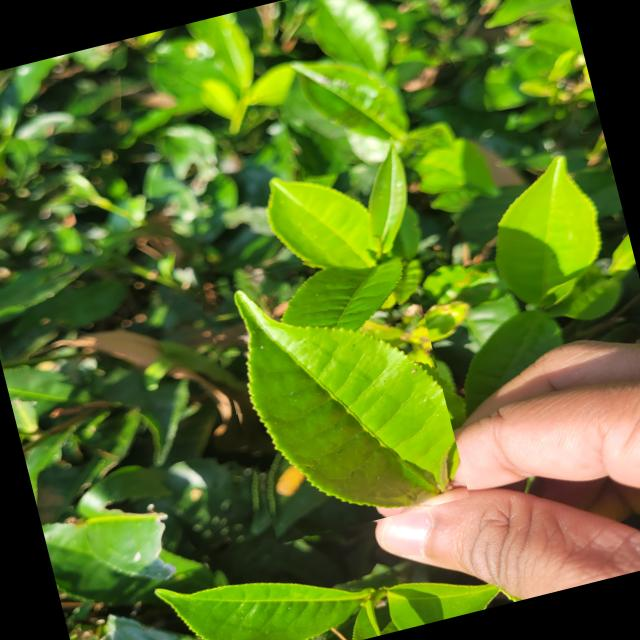Catagory A(1-2 days): (196, 232, 469, 548)
